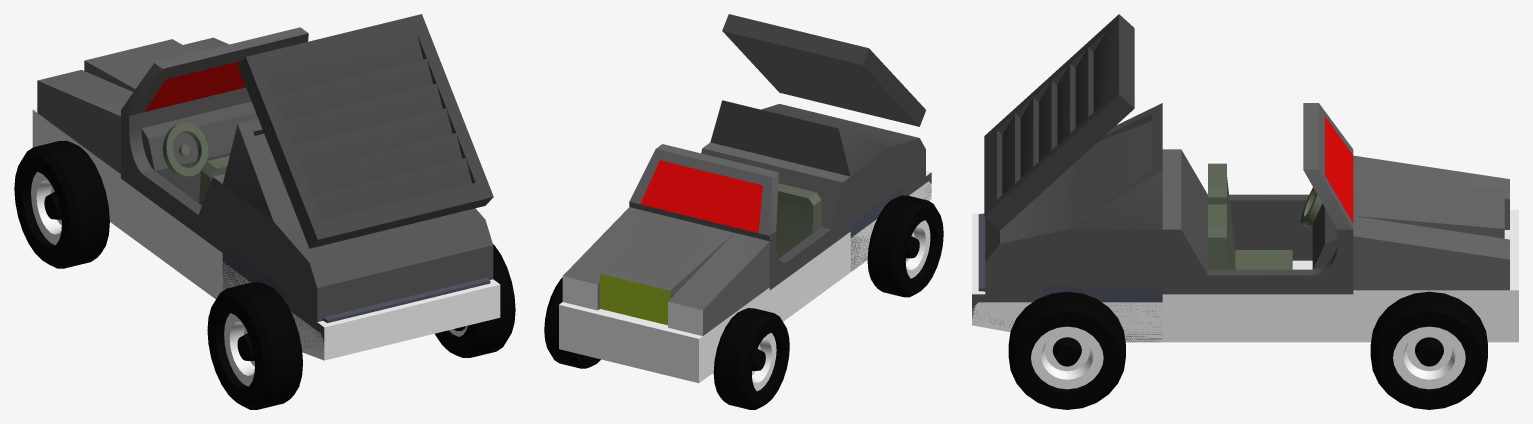
The model's file is car_model_v0001.fbx.
3 views of the same model, side by side, from view 1: azimuth 30°, elevation 25°; view 2: azimuth 150°, elevation 25°; view 3: azimuth 270°, elevation 25° (orthographic). The views are drawn at different scales.
Parts seen in each view (by area): view 1: air_ventLarge_9, trunk_default_7, windshield_jeep_2, hood_luxurious%_0, wheel_truck_6, wheel_truck_5, trunk_sports%_1, wheel_truck_4; view 2: hood_luxurious%_0, windshield_jeep_2, trunk_default_7, air_ventLarge_9, wheel_truck_5, wheel_truck_6, trunk_sports%_1, wheel_truck_3; view 3: windshield_jeep_2, hood_luxurious%_0, trunk_default_7, air_ventLarge_9, wheel_truck_3, wheel_truck_4, trunk_sports%_1.
Part boxes in pixels (<box>): air_ventLarge_9: <box>237,14,493,248</box>; trunk_default_7: <box>222,119,500,352</box>; windshield_jeep_2: <box>121,27,308,298</box>; hood_luxurious%_0: <box>32,37,229,229</box>; wheel_truck_6: <box>14,140,109,268</box>; wheel_truck_5: <box>207,282,302,409</box>; trunk_sports%_1: <box>222,245,500,360</box>; wheel_truck_4: <box>435,244,515,357</box>; hood_luxurious%_0: <box>559,207,769,383</box>; windshield_jeep_2: <box>629,142,850,321</box>; trunk_default_7: <box>710,100,931,271</box>; air_ventLarge_9: <box>722,14,926,126</box>; wheel_truck_5: <box>867,195,943,297</box>; wheel_truck_6: <box>713,308,789,409</box>; trunk_sports%_1: <box>850,181,931,271</box>; wheel_truck_3: <box>544,277,600,368</box>; windshield_jeep_2: <box>1162,103,1353,342</box>; hood_luxurious%_0: <box>1353,155,1518,342</box>; trunk_default_7: <box>972,103,1162,342</box>; air_ventLarge_9: <box>984,14,1134,230</box>; wheel_truck_3: <box>1370,291,1487,409</box>; wheel_truck_4: <box>1008,291,1125,409</box>; trunk_sports%_1: <box>972,213,1162,342</box>.
Size of the model in its own units: 14.31 by 17.43 by 28.7.
